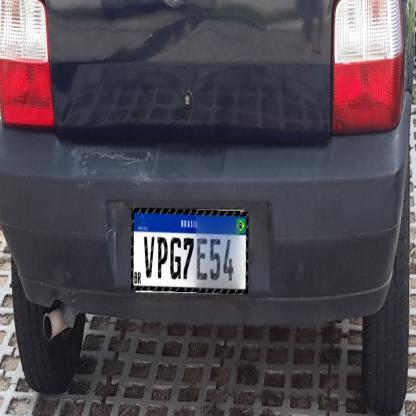PlacaM: (131, 208, 249, 294)
